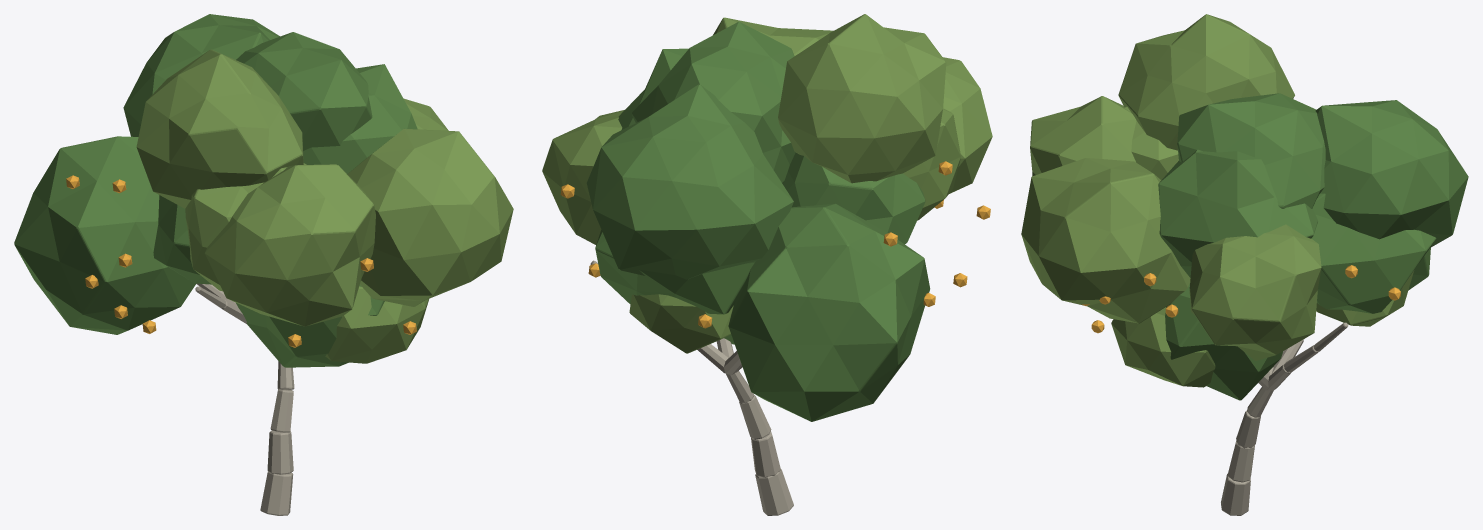
Rendered from FruitTreeB.fbx.
3 views of the same model, side by side, from view 1: azimuth 30°, elevation 25°; view 2: azimuth 150°, elevation 25°; view 3: azimuth 270°, elevation 25° (orthographic). The views are drawn at different scales.
Visible parts, largest first — view 1: FruitTreeB; view 2: FruitTreeB; view 3: FruitTreeB.
Boxes of the visible parts, <box> form: FruitTreeB: <box>14,14,513,515</box>; FruitTreeB: <box>542,14,992,515</box>; FruitTreeB: <box>1021,14,1468,515</box>.
Bounding box in the file's own units: 3.51 × 4.17 × 3.64.
